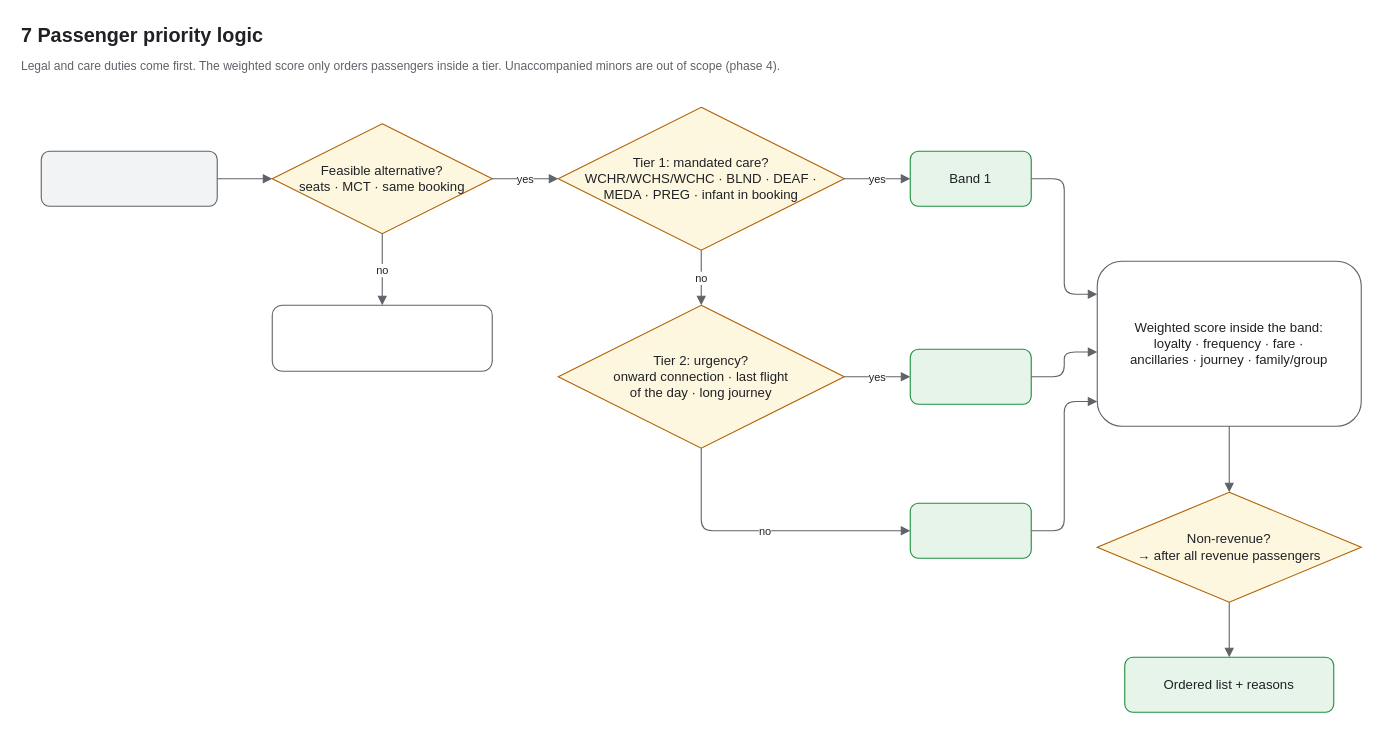
The diagram is 1381 pixels wide and 732 high, and some of its shapes have lost their labels. Here are the shapes that lost their labels. From the top down, the centre of each, then its label:
At (128,178): "Affected passenger".
At (381,337): "Next day + hotel + meals (EU261 care if departing the EU)".
At (970,376): "Band 2".
At (970,530): "Band 3".
